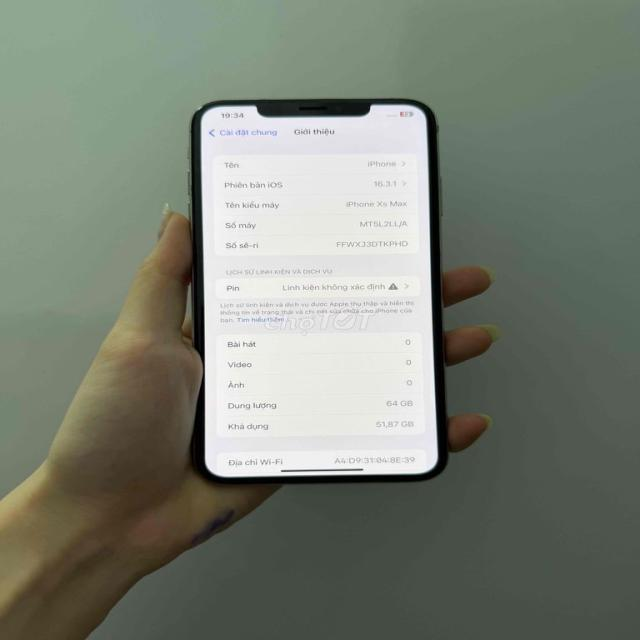gen_x_xs: (189, 99, 447, 484)
